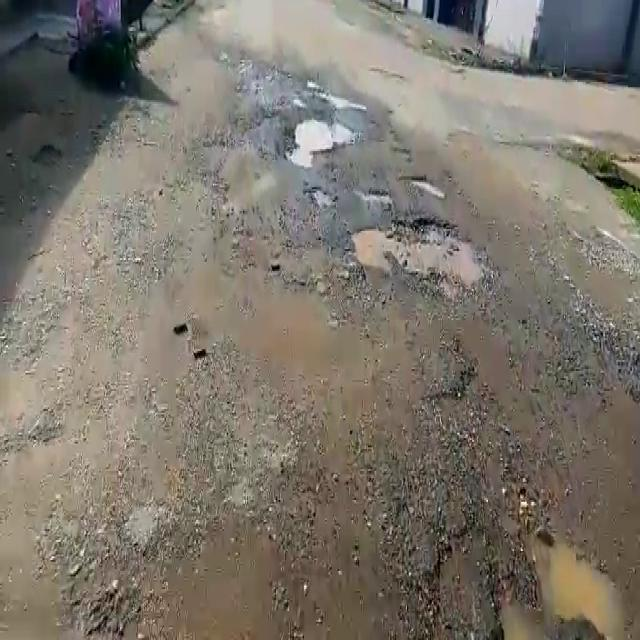pothole: (501, 527, 623, 640), (352, 215, 498, 293), (288, 114, 360, 162), (397, 171, 449, 199), (319, 94, 358, 113), (359, 189, 394, 204)
